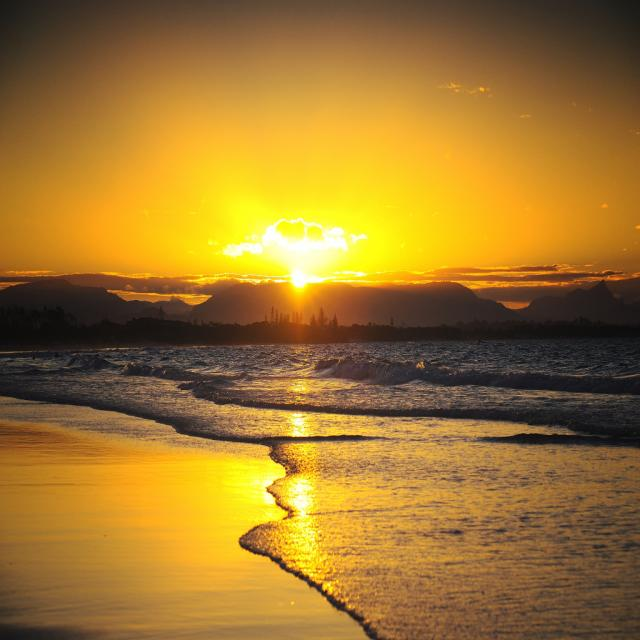no_fire: (81, 90, 598, 640)
